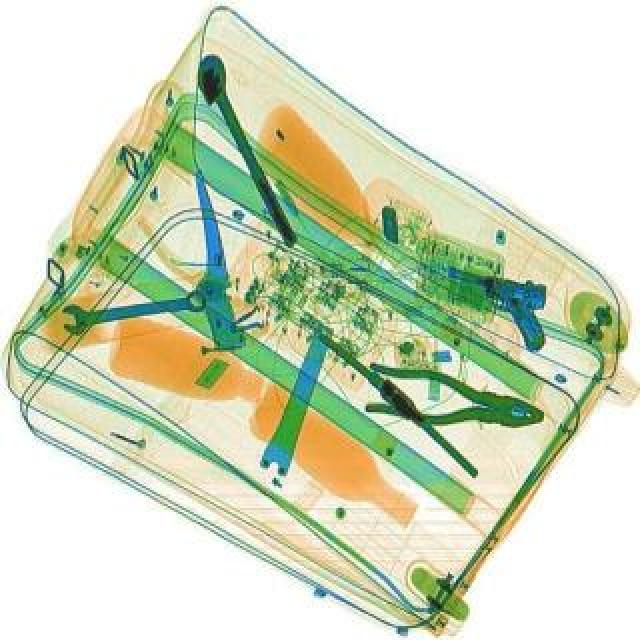gun: (426, 258, 562, 354)
scissors: (56, 284, 206, 336)
wrench: (362, 360, 546, 440)
